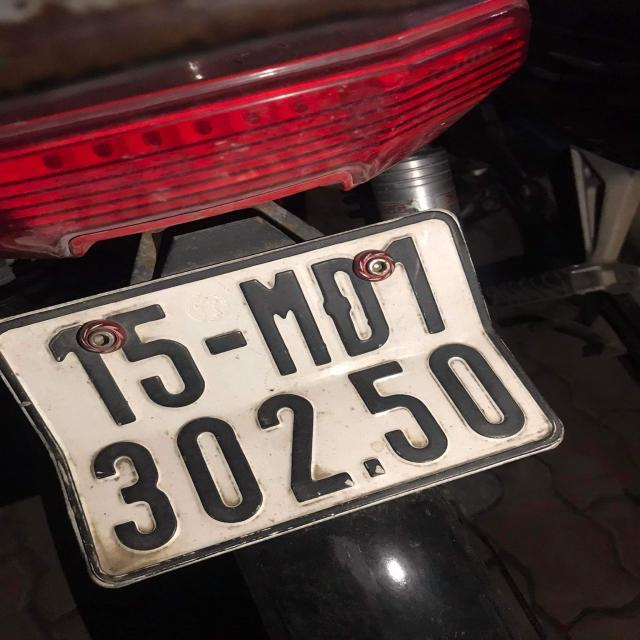0: (430, 337, 530, 443), (177, 413, 263, 530)
2: (256, 392, 358, 506)
3: (86, 434, 178, 554)
5: (344, 362, 452, 472), (119, 300, 208, 412)
7: (46, 314, 136, 428)
M: (237, 270, 337, 378)
